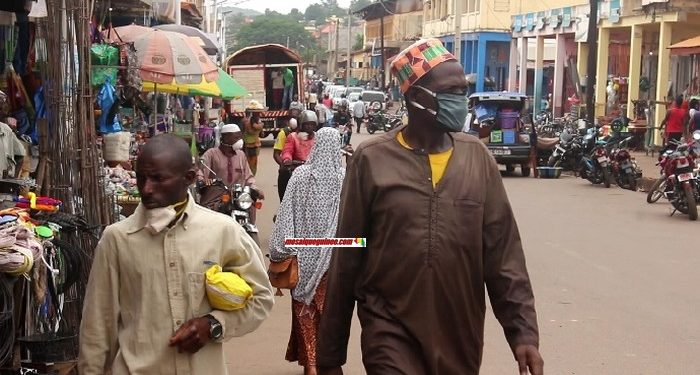with_incorrect_mask: (128, 151, 194, 234)
with_mask: (406, 78, 474, 138), (220, 132, 246, 154)
